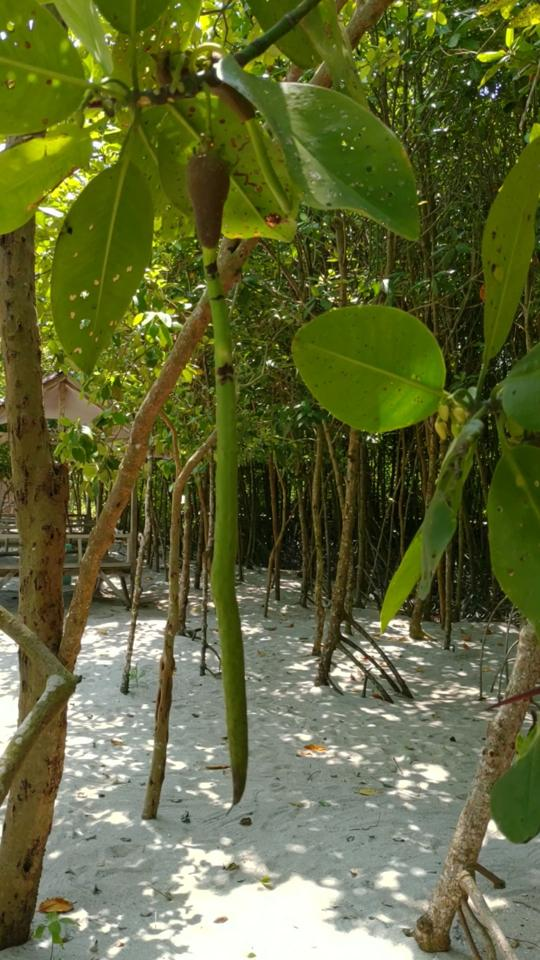mentah: (159, 118, 275, 821)
